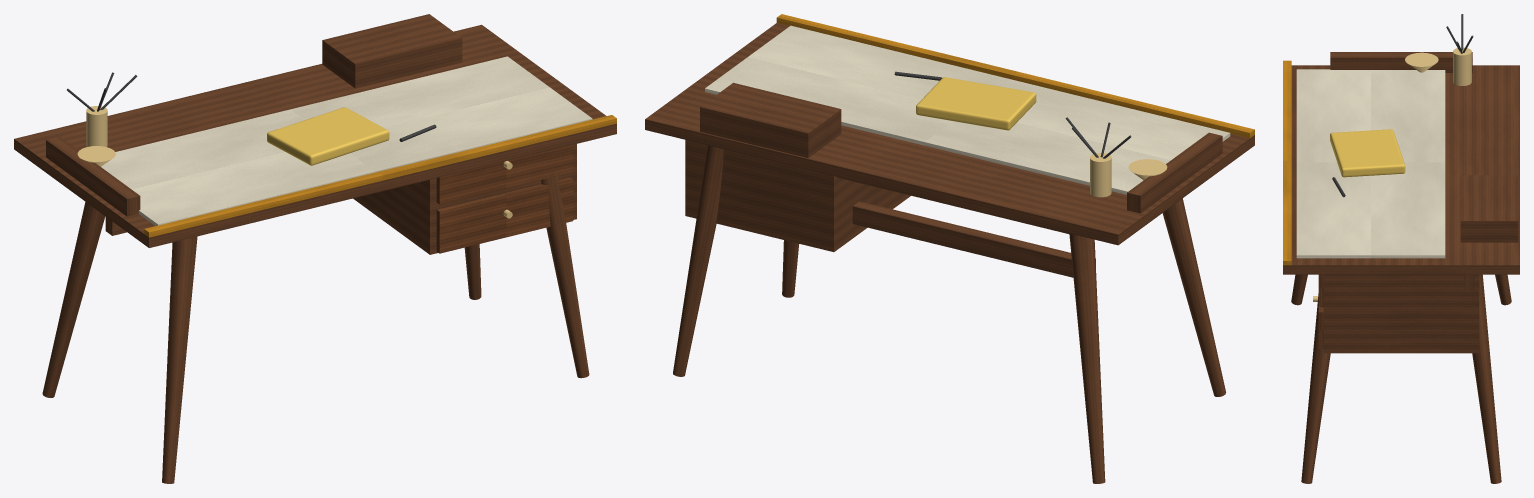
File: escritorio.glb
The picture shows the model from 3 angles, left to right: view 1: azimuth 30°, elevation 25°; view 2: azimuth 150°, elevation 25°; view 3: azimuth 270°, elevation 25°; orthographic projection. The views are drawn at different scales.
Parts seen in each view (by area): view 1: Madera_nogal, Cuero_crema, Cajones, Cuero_mostaza, Objetos, Laton; view 2: Madera_nogal, Cuero_crema, Cuero_mostaza, Objetos, Laton; view 3: Madera_nogal, Cuero_crema, Objetos, Cuero_mostaza, Laton, Cajones, Lapicera.
Part boxes in pixels (x1=…): Madera_nogal: x1=14, y1=14, x2=616, y2=483; Cuero_crema: x1=101, y1=56, x2=592, y2=225; Cajones: x1=436, y1=145, x2=573, y2=253; Cuero_mostaza: x1=144, y1=115, x2=616, y2=237; Objetos: x1=267, y1=107, x2=389, y2=165; Laton: x1=77, y1=106, x2=512, y2=218; Madera_nogal: x1=645, y1=23, x2=1254, y2=483; Cuero_crema: x1=705, y1=25, x2=1230, y2=194; Cuero_mostaza: x1=776, y1=14, x2=1254, y2=138; Objetos: x1=916, y1=77, x2=1036, y2=130; Laton: x1=1090, y1=153, x2=1167, y2=197; Madera_nogal: x1=1283, y1=52, x2=1519, y2=483; Cuero_crema: x1=1296, y1=69, x2=1445, y2=258; Objetos: x1=1330, y1=129, x2=1405, y2=177; Cuero_mostaza: x1=1283, y1=60, x2=1291, y2=265; Laton: x1=1313, y1=47, x2=1471, y2=301; Cajones: x1=1318, y1=274, x2=1323, y2=348; Lapicera: x1=1332, y1=14, x2=1473, y2=197.
Size of the model in its own units: 1.4 by 0.9358 by 0.7.
7 materials, 4 textured.
